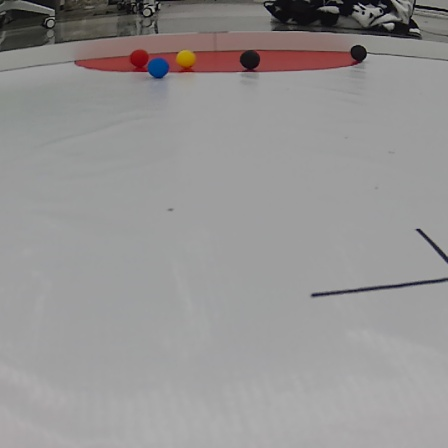black: (239, 51, 263, 68), (351, 42, 368, 63)
blue: (147, 55, 172, 80)
red: (132, 49, 146, 69)
red_base: (71, 47, 368, 72)
yellow: (173, 48, 197, 68)
